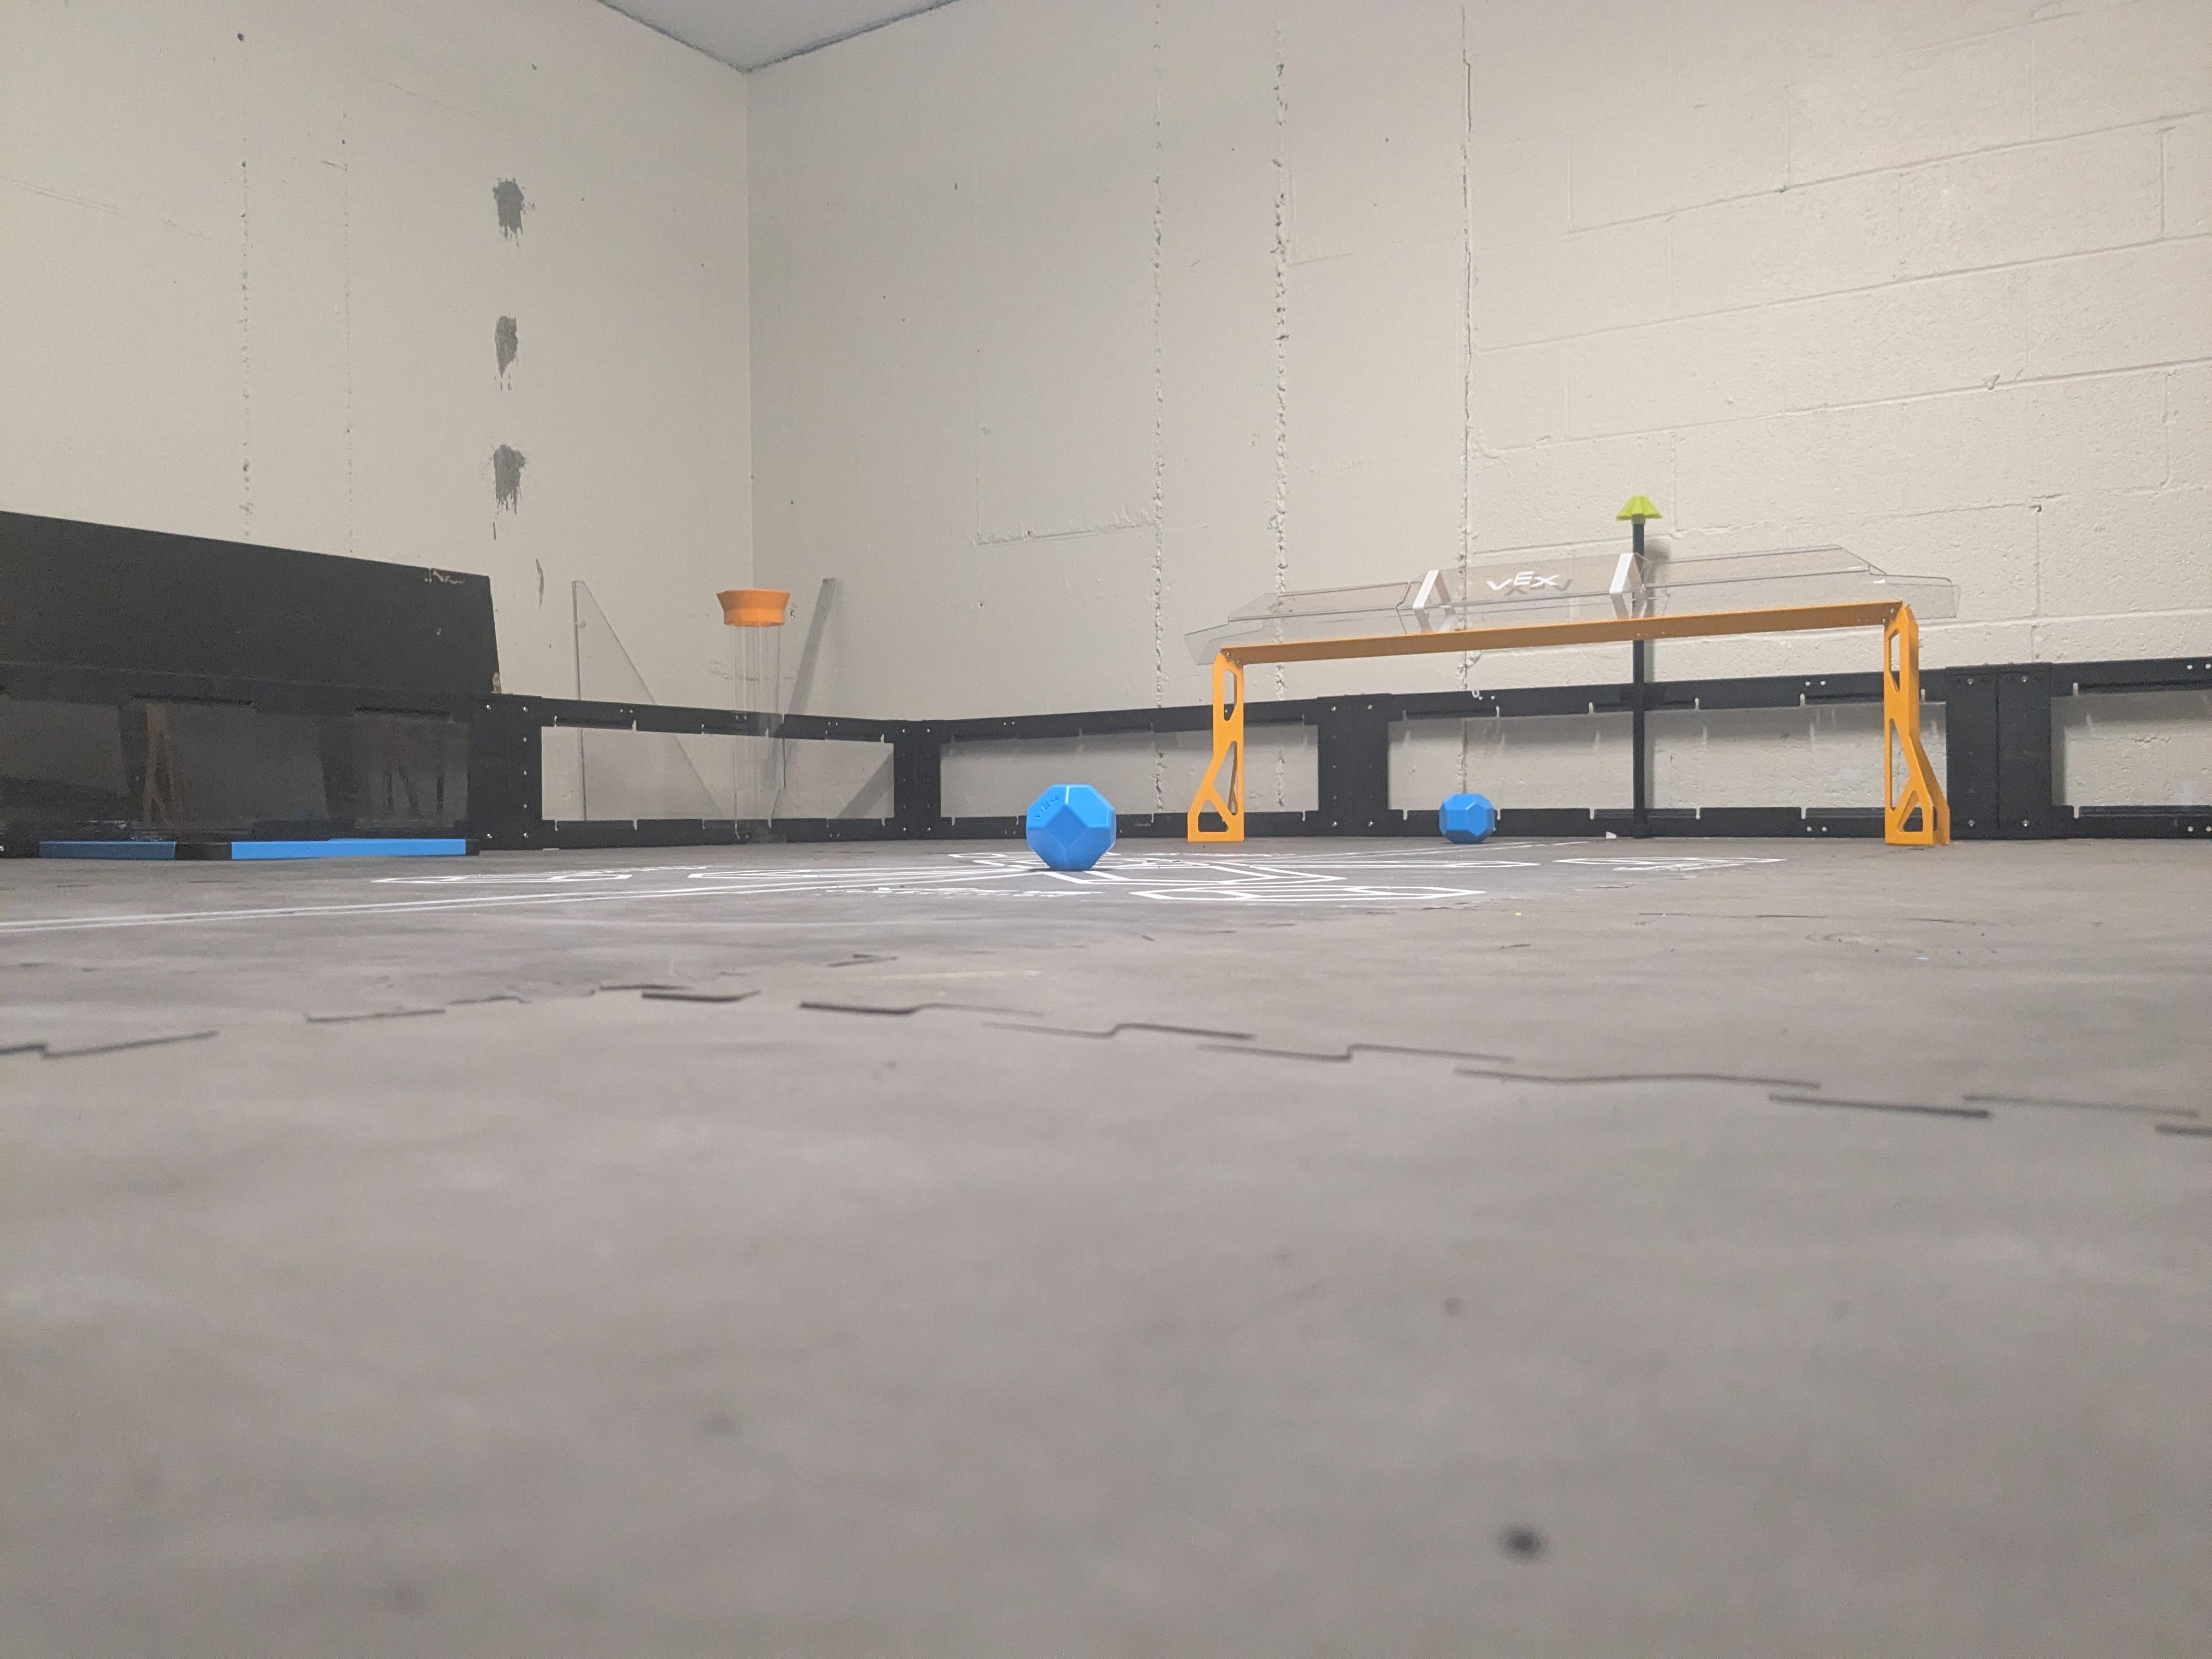Vex-Pieces-BLUE: (1022, 784, 1115, 870), (1439, 793, 1496, 843)
